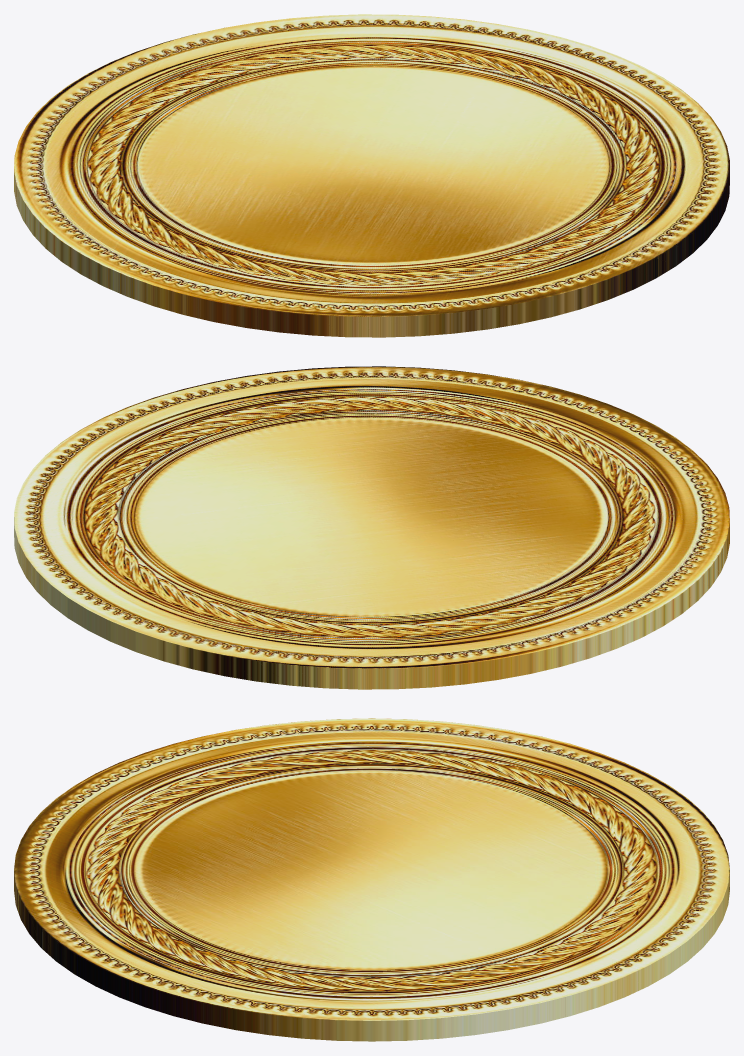
The model's file is goldcoin.fbx.
The picture shows the model from 3 angles, top to bottom: view 1: azimuth 30°, elevation 25°; view 2: azimuth 150°, elevation 25°; view 3: azimuth 270°, elevation 25°; orthographic projection.
Parts seen in each view (by area): view 1: Cylinder; view 2: Cylinder; view 3: Cylinder.
Boxes of the visible parts, x1,y1,x2,y2 form: Cylinder: [14, 14, 729, 337]; Cylinder: [14, 366, 729, 689]; Cylinder: [14, 718, 729, 1041].
Bounding box in the file's own units: 200 × 6.34 × 200.
